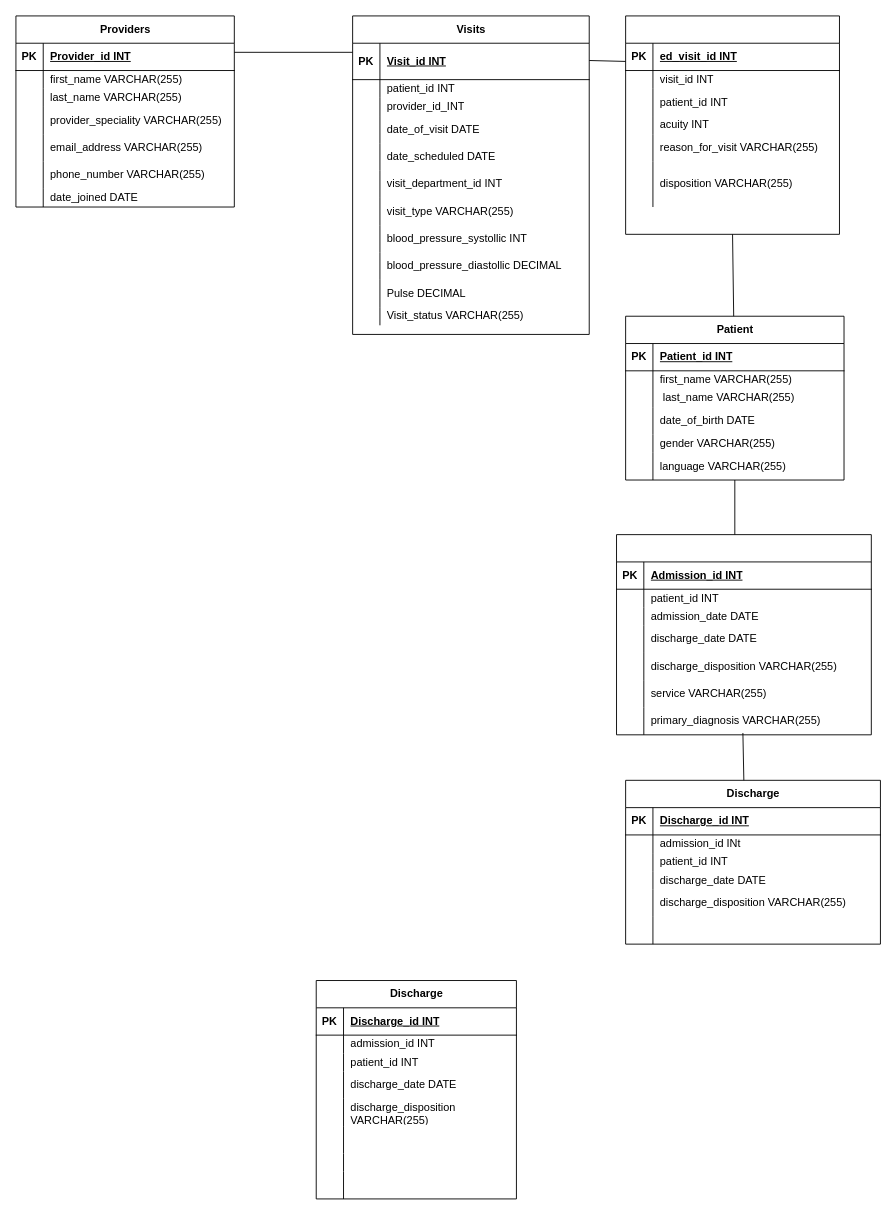
The diagram is 896 pixels wide and 1215 high, and some of its shapes have lost their labels. Here are the shapes that lost their labels. From the top down, the box of each, then its label:
(625, 15, 839, 234): Ed_visits
(616, 534, 871, 735): Admissions
